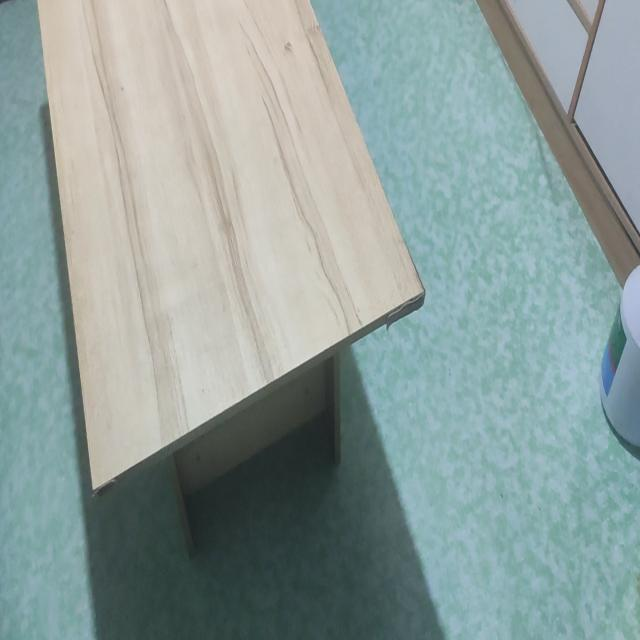table: (33, 0, 427, 504)
